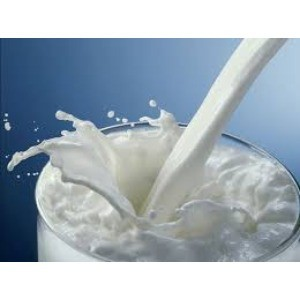milk_brain food: (60, 119, 282, 242)
